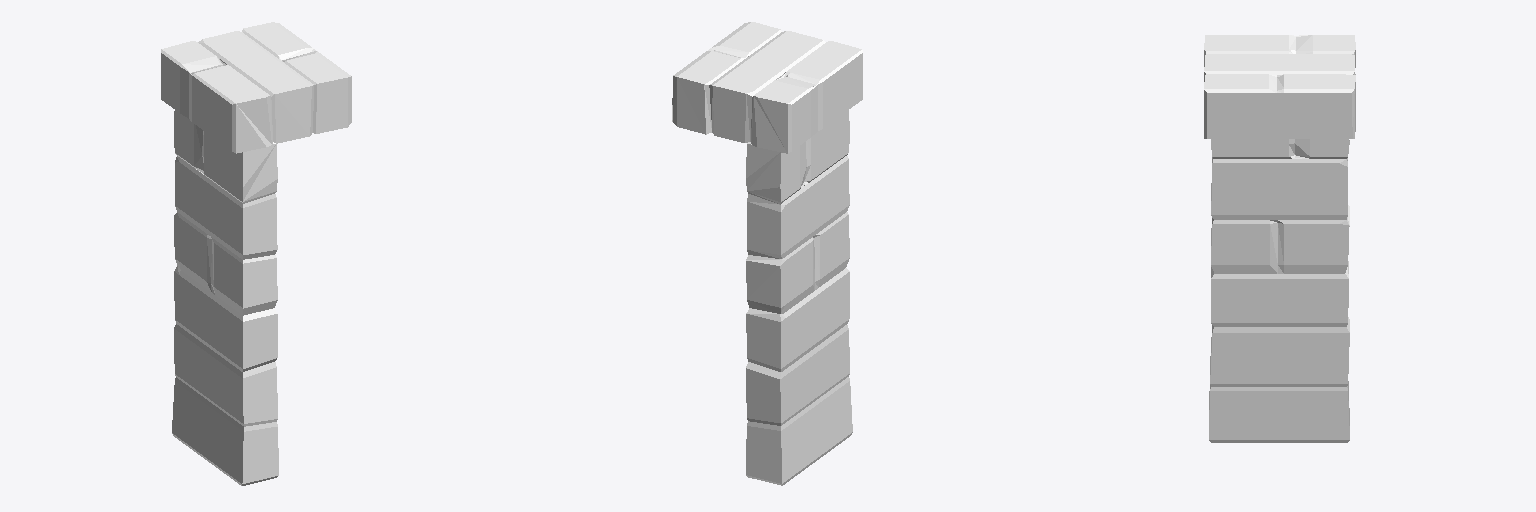
File: Doorway1_Side.obj
3 renders of one model, left to right at view 1: azimuth 30°, elevation 25°; view 2: azimuth 150°, elevation 25°; view 3: azimuth 270°, elevation 25°, orthographic.
Visible parts, largest first — view 1: Box001, Box002; view 2: Box001, Box002; view 3: Box001, Box002.
Part boxes in pixels (x1,y1,x2,y2): Box001: (172,110,278,485); Box002: (161,22,351,153); Box001: (746,110,852,485); Box002: (672,22,862,153); Box001: (1209,139,1349,442); Box002: (1204,35,1355,138).
Size of the model in its own units: 0.6751 by 2.1 by 0.7512.